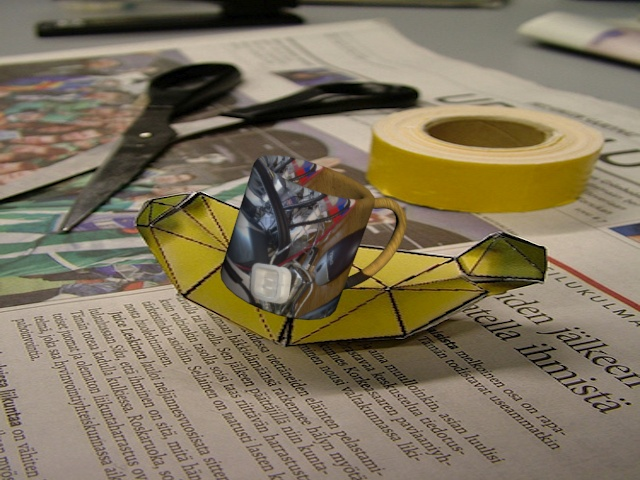mug: (209, 145, 417, 328)
